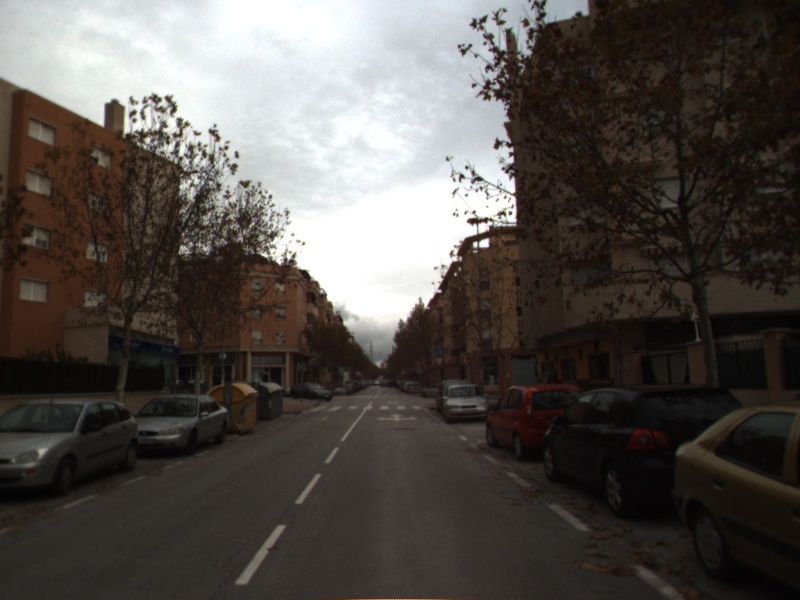STRAIGHT_LEFT_RIGHT: (375, 411, 420, 424)
